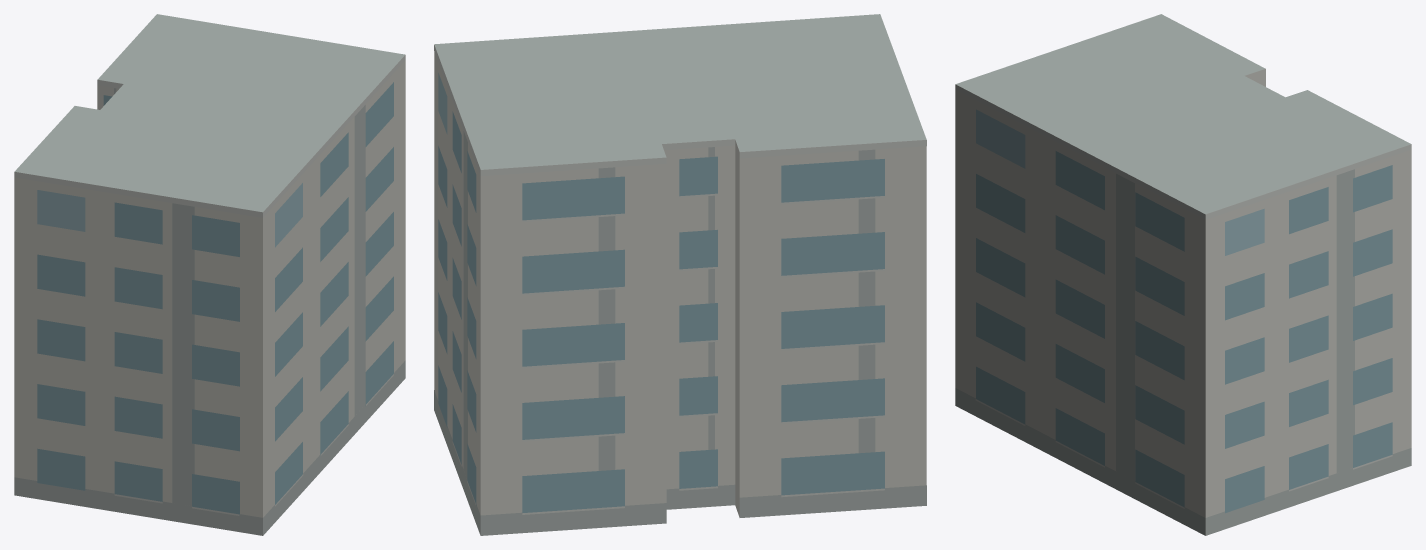
Rendered from survey-upis-32816437.glb.
3 renders of one model, left to right at view 1: azimuth 30°, elevation 25°; view 2: azimuth 150°, elevation 25°; view 3: azimuth 270°, elevation 25°, orthographic. The views are drawn at different scales.
Visible parts, largest first — view 1: survey-upis-32816437.tmp; view 2: survey-upis-32816437.tmp; view 3: survey-upis-32816437.tmp.
Boxes of the visible parts, <box> form: survey-upis-32816437.tmp: <box>14,14,405,535</box>; survey-upis-32816437.tmp: <box>434,14,926,535</box>; survey-upis-32816437.tmp: <box>955,14,1411,535</box>.
Bounding box in the file's own units: 18.66 × 13.95 × 17.95.
